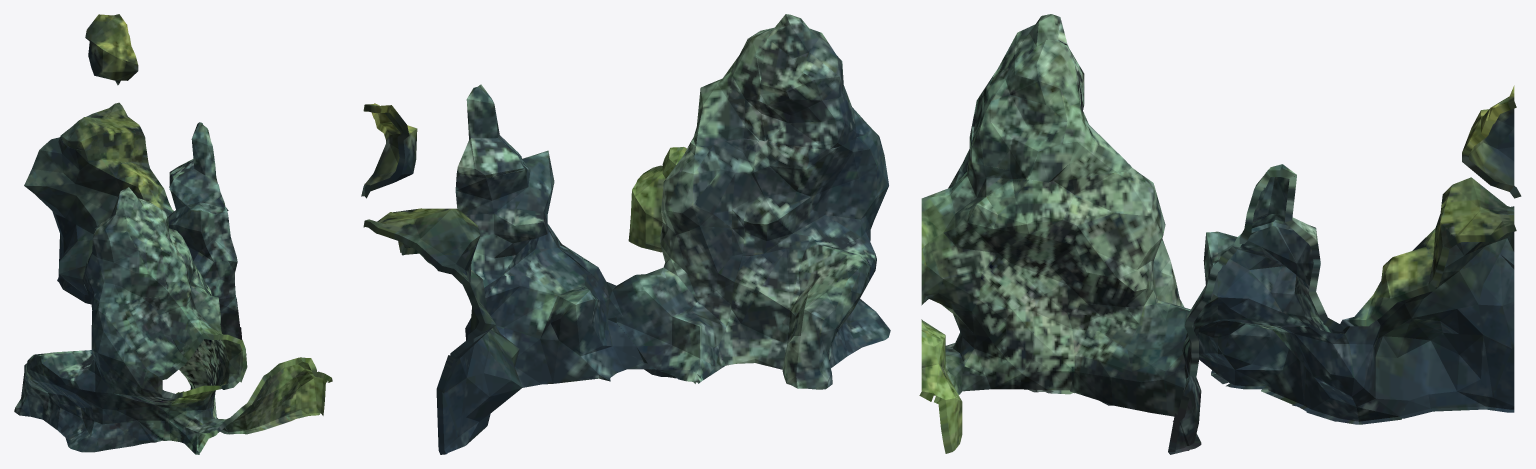
File: BuildingMesh-00041.gltf
3 views of the same model, side by side, from view 1: azimuth 30°, elevation 25°; view 2: azimuth 150°, elevation 25°; view 3: azimuth 270°, elevation 25° (orthographic). The views are drawn at different scales.
Visible parts, largest first — view 1: BuildingMesh-00041; view 2: BuildingMesh-00041; view 3: BuildingMesh-00041.
Part boxes in pixels (x1,y1,x2,y2): BuildingMesh-00041: [14, 14, 332, 454]; BuildingMesh-00041: [361, 14, 890, 454]; BuildingMesh-00041: [919, 14, 1521, 454].
Size of the model in its own units: 0.6314 by 0.6588 by 0.9882.
Materials: 1 (1 with a texture image).
